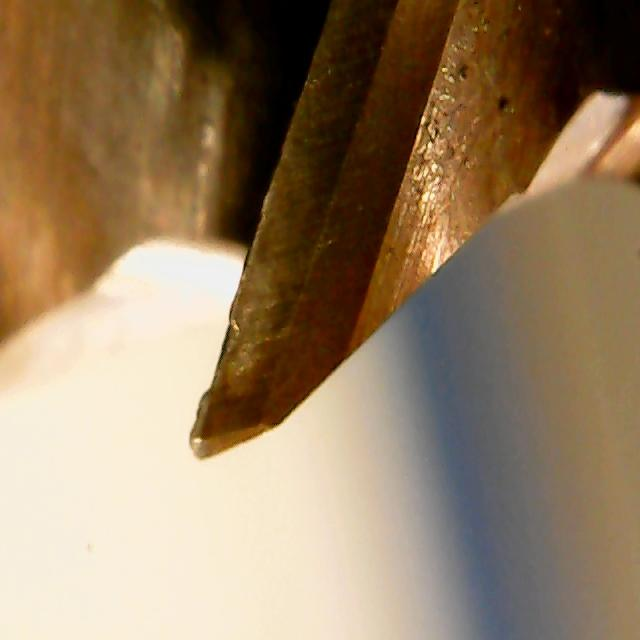Tool-wear-class-1: (174, 182, 356, 465)
